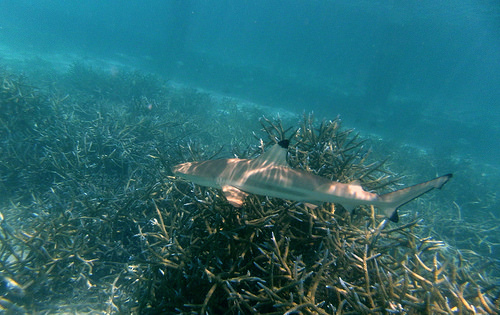shark: (159, 136, 456, 233)
